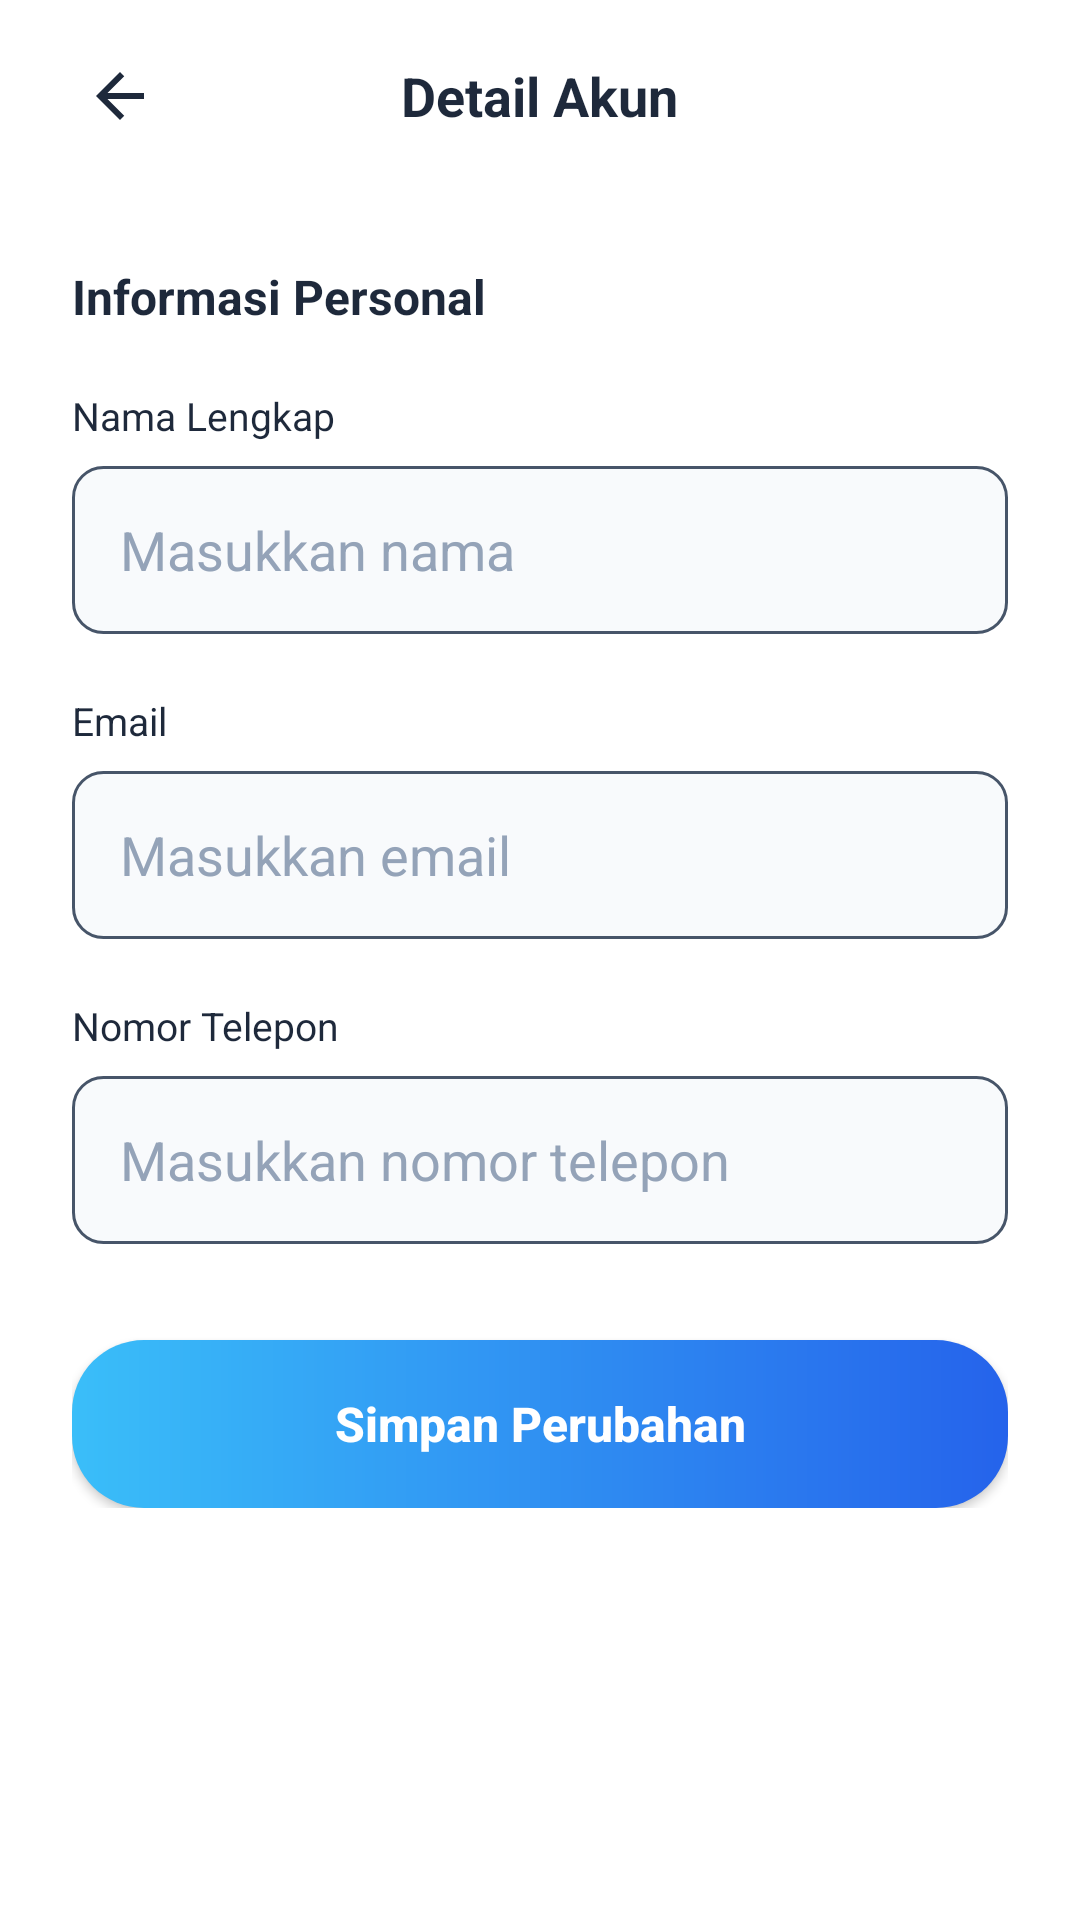

Where icons sit on this 1080px x 1920px app screen, as [left=x1, top=y1, right=x2, bottom=y2]:
back: [left=96, top=72, right=144, bottom=120]
